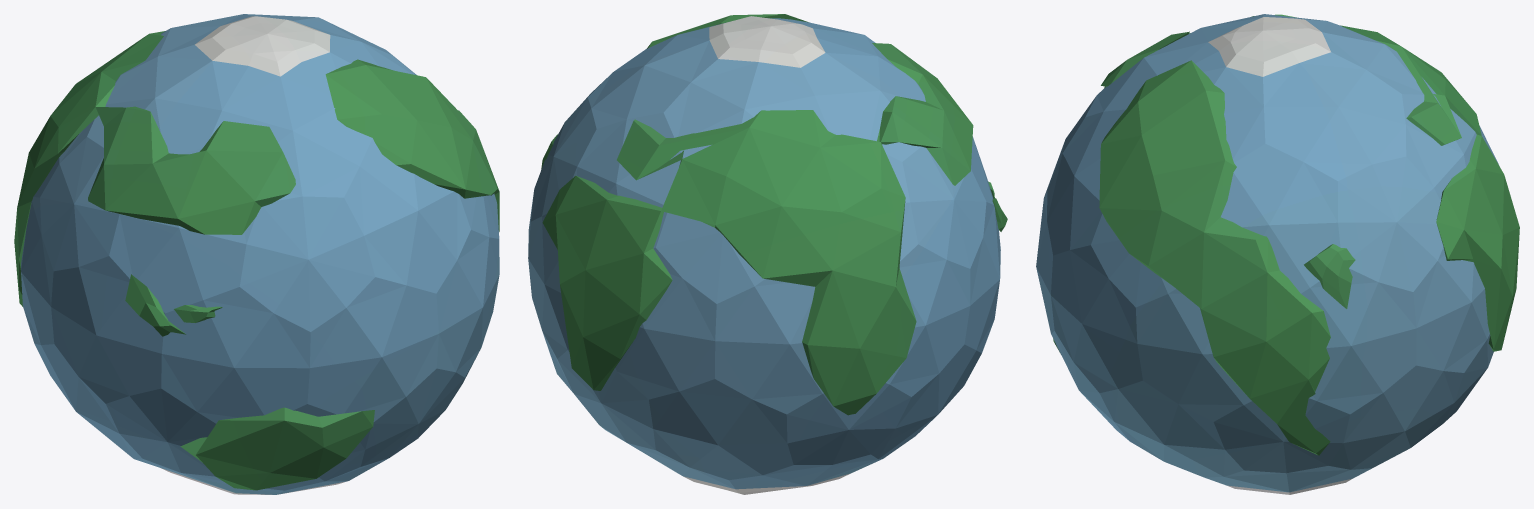
The model's file is earth.glb.
3 views of the same model, side by side, from view 1: azimuth 30°, elevation 25°; view 2: azimuth 150°, elevation 25°; view 3: azimuth 270°, elevation 25° (orthographic).
Visible parts, largest first — view 1: node-0; view 2: node-0; view 3: node-0.
Boxes of the visible parts, bbox=[...] form: node-0: bbox=[14, 14, 499, 494]; node-0: bbox=[528, 14, 1007, 494]; node-0: bbox=[1036, 14, 1519, 494].
Size of the model in its own units: 17.22 by 17.52 by 17.23.
1 material, 1 textured.
